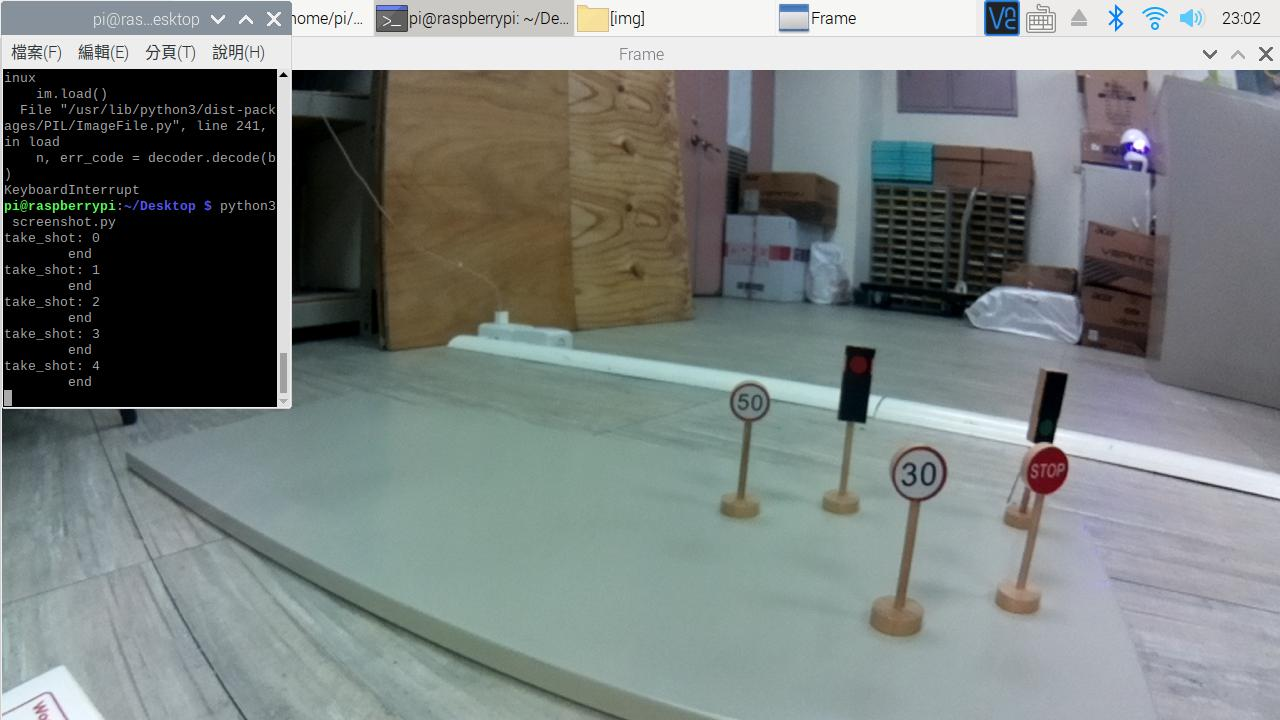Green: (1040, 364, 1055, 440)
Red: (845, 347, 867, 422)
Speed30: (893, 442, 951, 496)
Speed50: (728, 379, 770, 420)
Stop: (1024, 451, 1067, 490)
